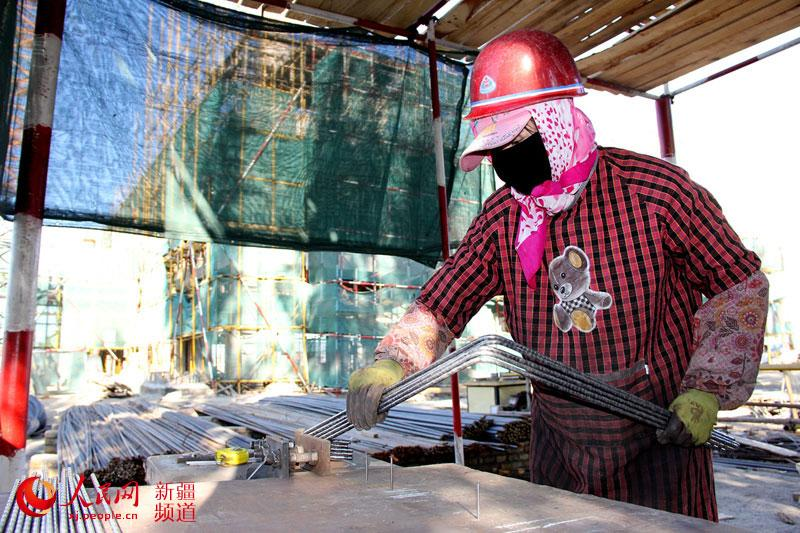helmet: (466, 29, 590, 118)
